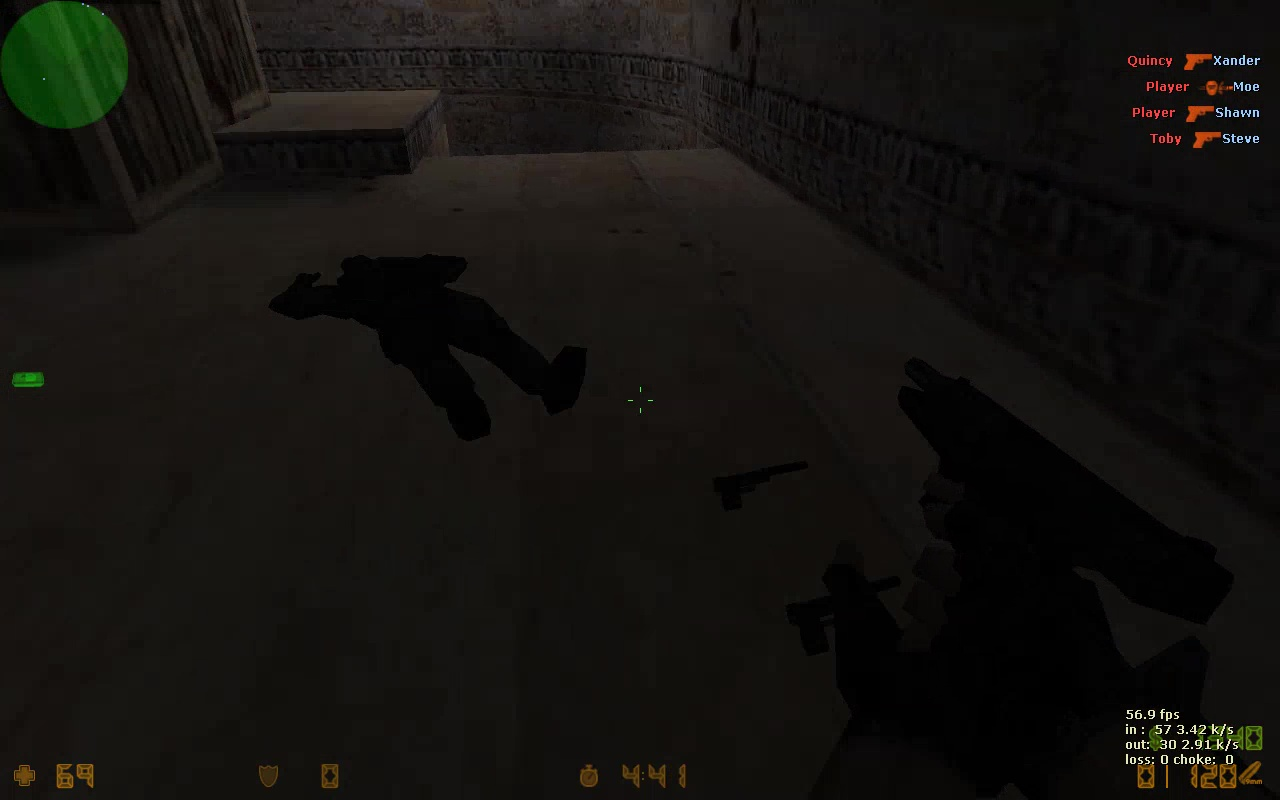dead: (266, 251, 586, 436)
